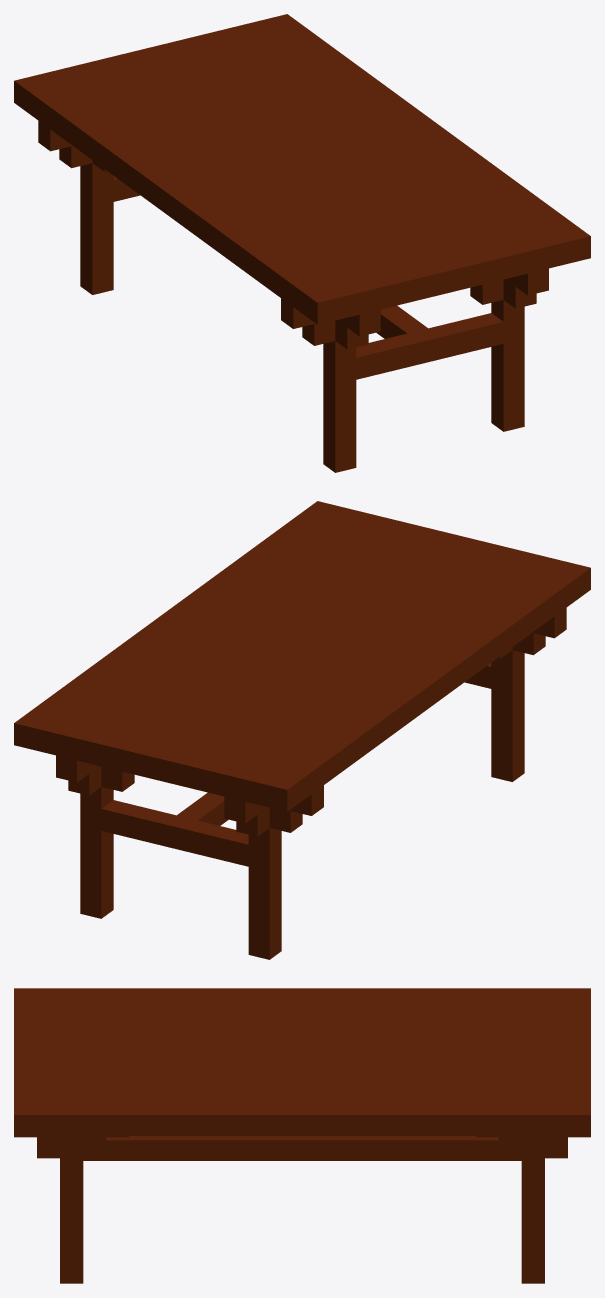
Rendered from table.obj.
The picture shows the model from 3 angles, top to bottom: view 1: azimuth 30°, elevation 25°; view 2: azimuth 150°, elevation 25°; view 3: azimuth 270°, elevation 25°; orthographic projection. The views are drawn at different scales.
Size of the model in its own units: 13 by 9 by 25.
Materials: 1 (1 with a texture image).
